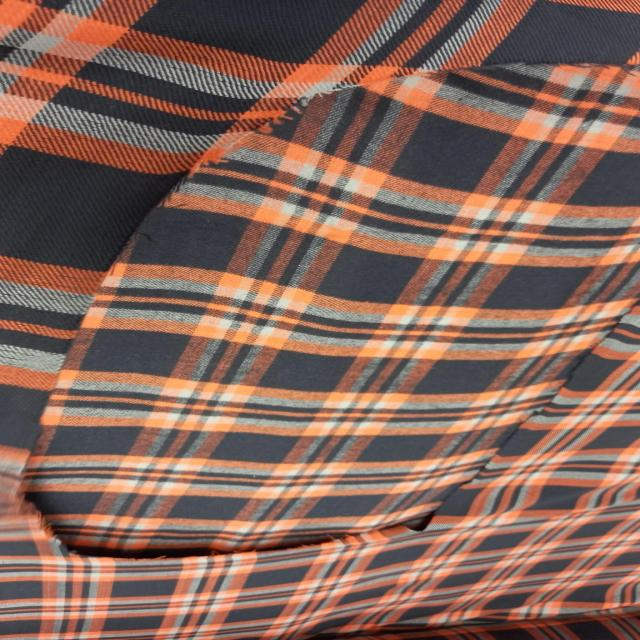cut: (19, 114, 210, 520), (265, 57, 629, 113), (32, 526, 491, 567)
